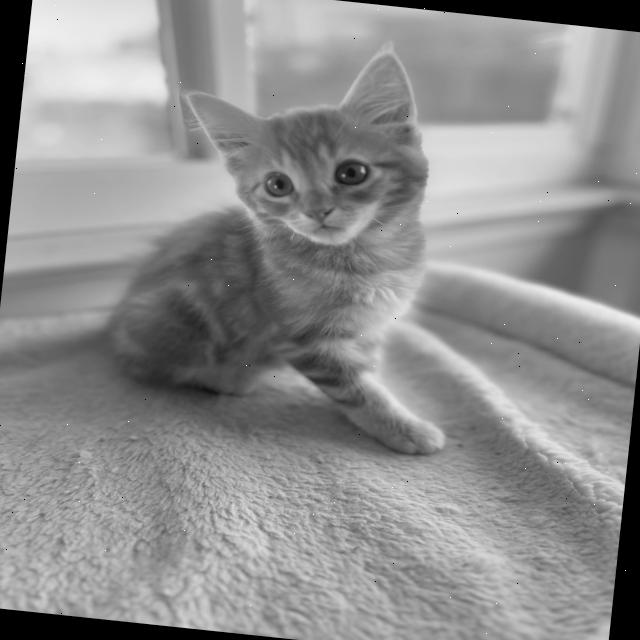domestic_long_hair_cat: (158, 16, 464, 279)
